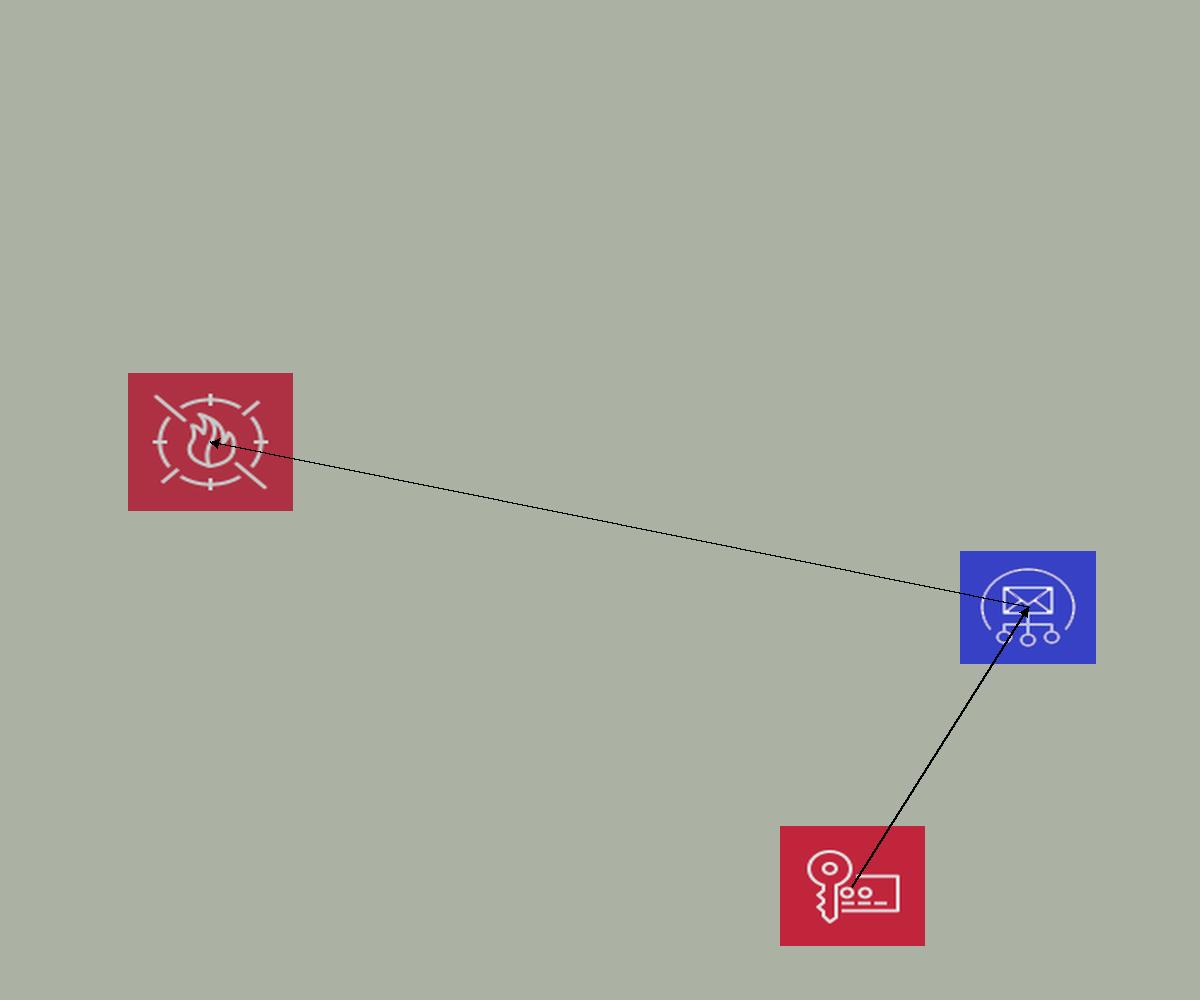AWS-Key-Management-Service: (780, 826, 925, 946)
AWS-Simple-Email-Service: (960, 551, 1096, 664)
AWS-WAF: (128, 373, 293, 511)
